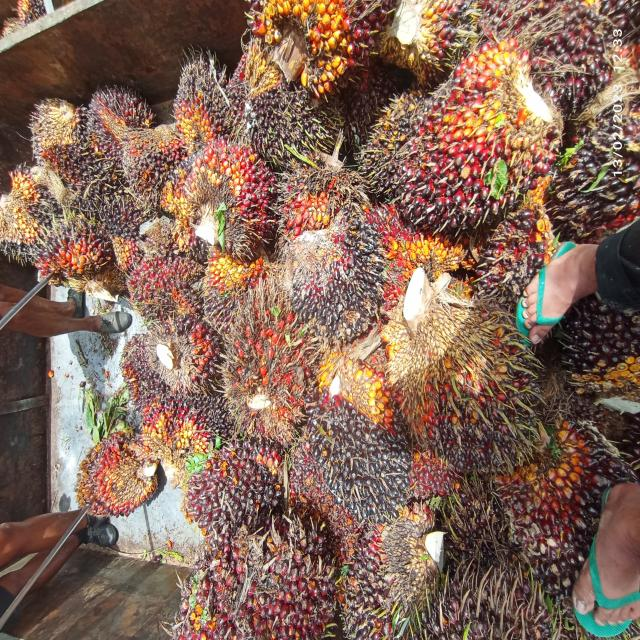fraksi 00: (309, 360, 421, 542), (285, 210, 392, 348), (354, 90, 434, 203), (241, 78, 329, 172), (136, 377, 219, 467), (169, 53, 244, 148), (0, 164, 60, 263), (28, 104, 96, 191), (116, 129, 176, 210)
fraksi 1: (392, 269, 549, 477), (175, 510, 336, 640), (56, 422, 166, 532), (173, 432, 287, 531), (30, 193, 104, 291), (83, 81, 147, 154), (127, 248, 198, 305)
fraksi 3: (390, 28, 564, 234), (180, 136, 270, 261)
fraksi 4: (205, 286, 317, 470), (272, 148, 360, 260)
